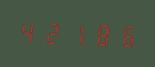eight: (87, 20, 109, 48)
four: (18, 17, 40, 45)
one: (64, 19, 86, 47)
six: (110, 21, 132, 48)
two: (41, 18, 63, 46)
